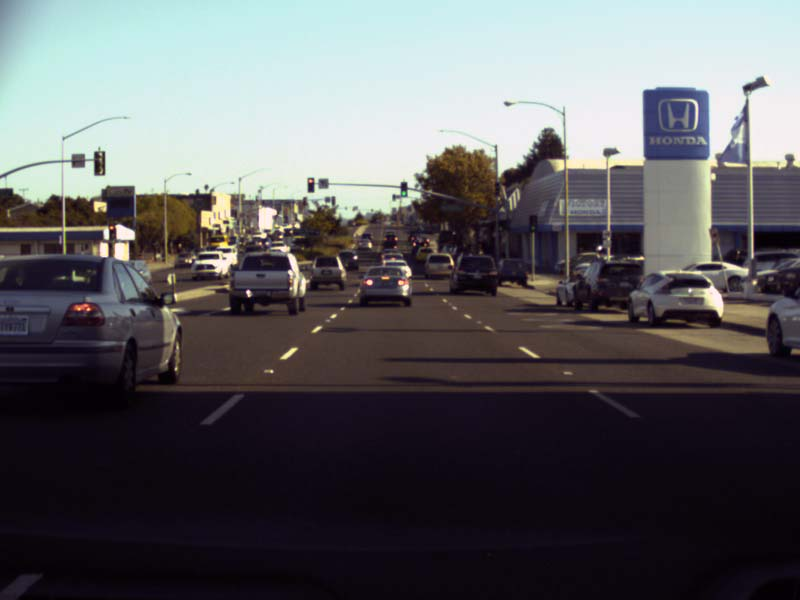Green: (529, 215, 536, 231), (400, 180, 406, 196), (497, 220, 503, 231)
Red: (307, 176, 313, 192)
